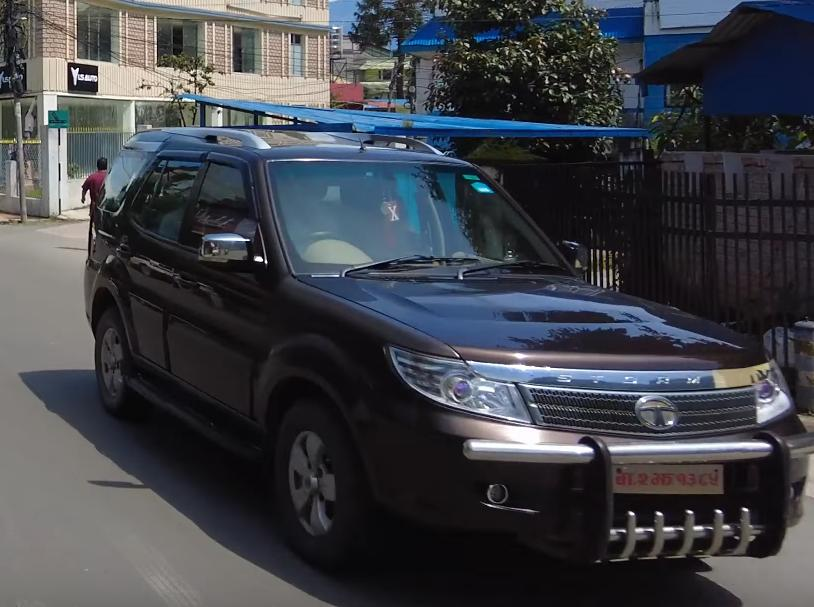SUV: (75, 116, 814, 607)
